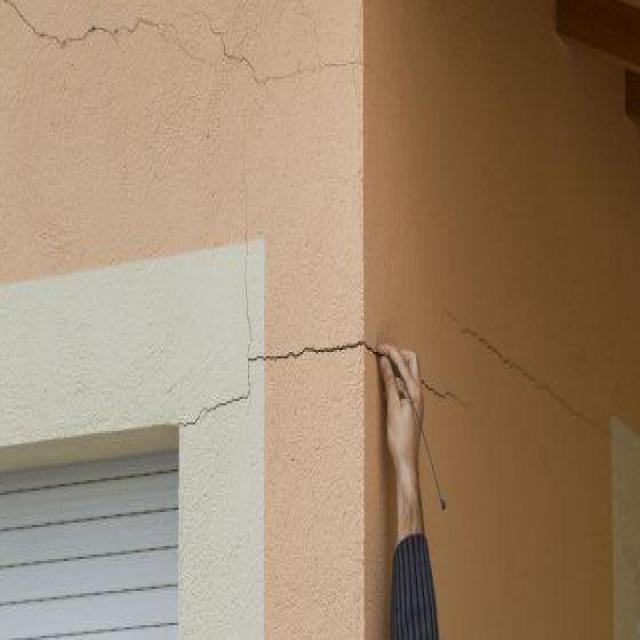crack: (442, 301, 614, 438), (205, 8, 366, 86), (176, 360, 252, 431), (8, 3, 122, 49), (249, 337, 379, 363), (241, 136, 254, 348), (423, 375, 468, 408), (122, 16, 166, 38)
